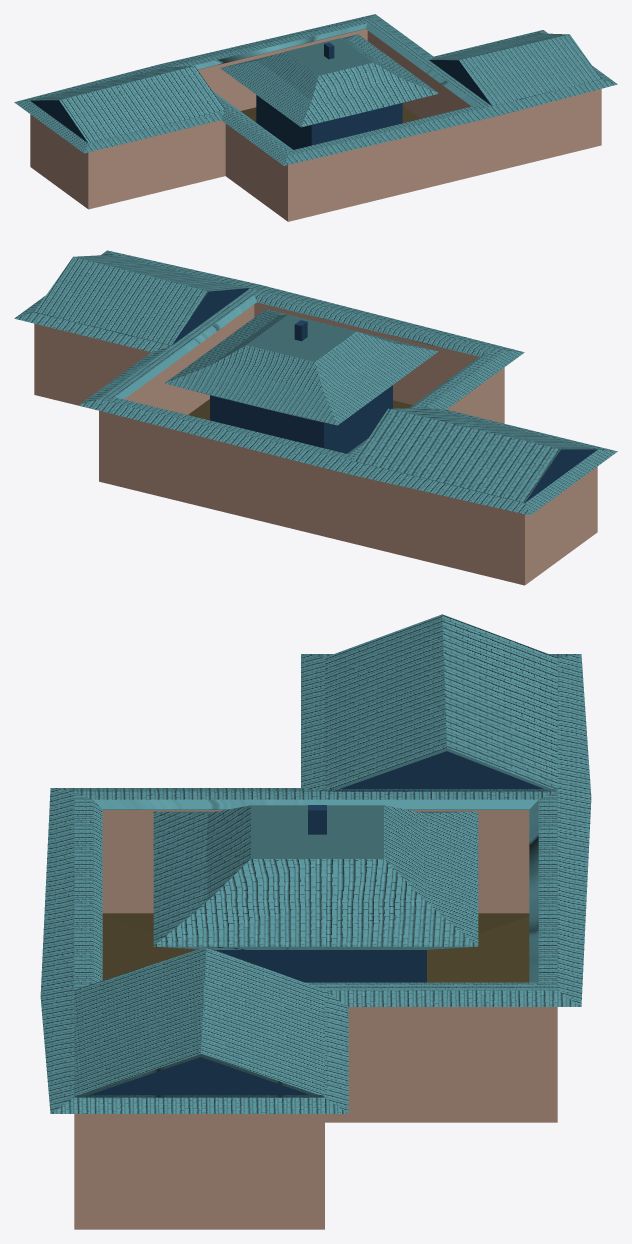
The model's file is Z_building.fbx.
3 views of the same model, one above another, from view 1: azimuth 30°, elevation 25°; view 2: azimuth 150°, elevation 25°; view 3: azimuth 270°, elevation 25° (orthographic). The views are drawn at different scales.
Visible parts, largest first — view 1: Cube.015; view 2: Cube.015; view 3: Cube.015.
Part boxes in pixels (left/top/right/bottom): Cube.015: left=14, top=14, right=617, bottom=221; Cube.015: left=14, top=250, right=617, bottom=585; Cube.015: left=40, top=614, right=591, bottom=1229.
Size of the model in its own units: 901 by 197 by 456.
